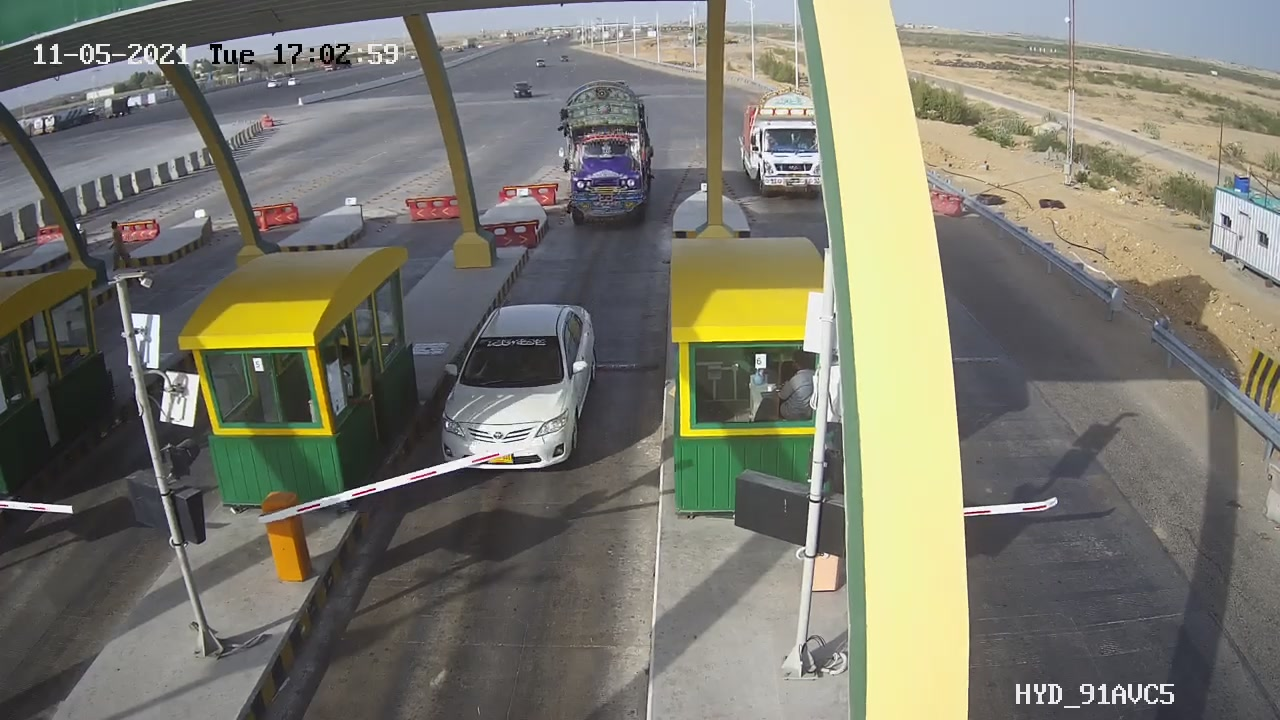F1: (421, 286, 613, 487)
